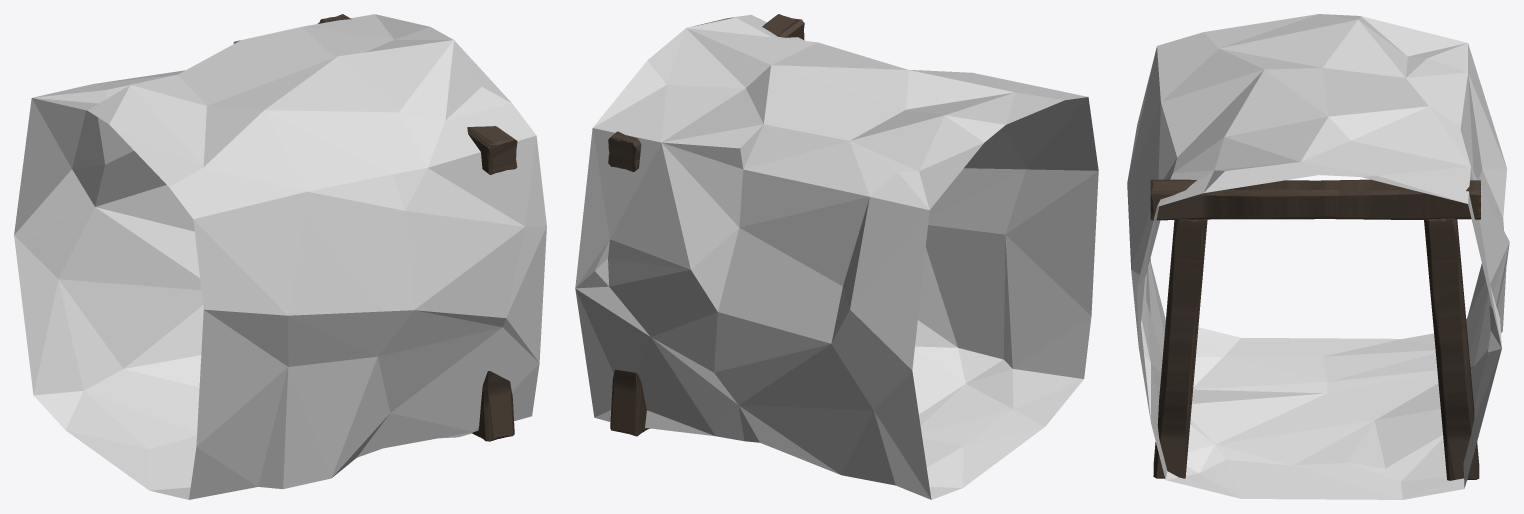
Rendered from SM_Spline1_LP_Pillars.fbx.
The picture shows the model from 3 angles, left to right: view 1: azimuth 30°, elevation 25°; view 2: azimuth 150°, elevation 25°; view 3: azimuth 270°, elevation 25°; orthographic projection. The views are drawn at different scales.
Visible parts, largest first — view 1: Spline1_LP; view 2: Spline1_LP; view 3: Spline1_LP.
Part boxes in pixels (bbox=[...]): Spline1_LP: bbox=[14, 14, 546, 499]; Spline1_LP: bbox=[575, 14, 1098, 499]; Spline1_LP: bbox=[1127, 14, 1509, 499].
Bounding box in the file's own units: 306 × 305 × 300.
